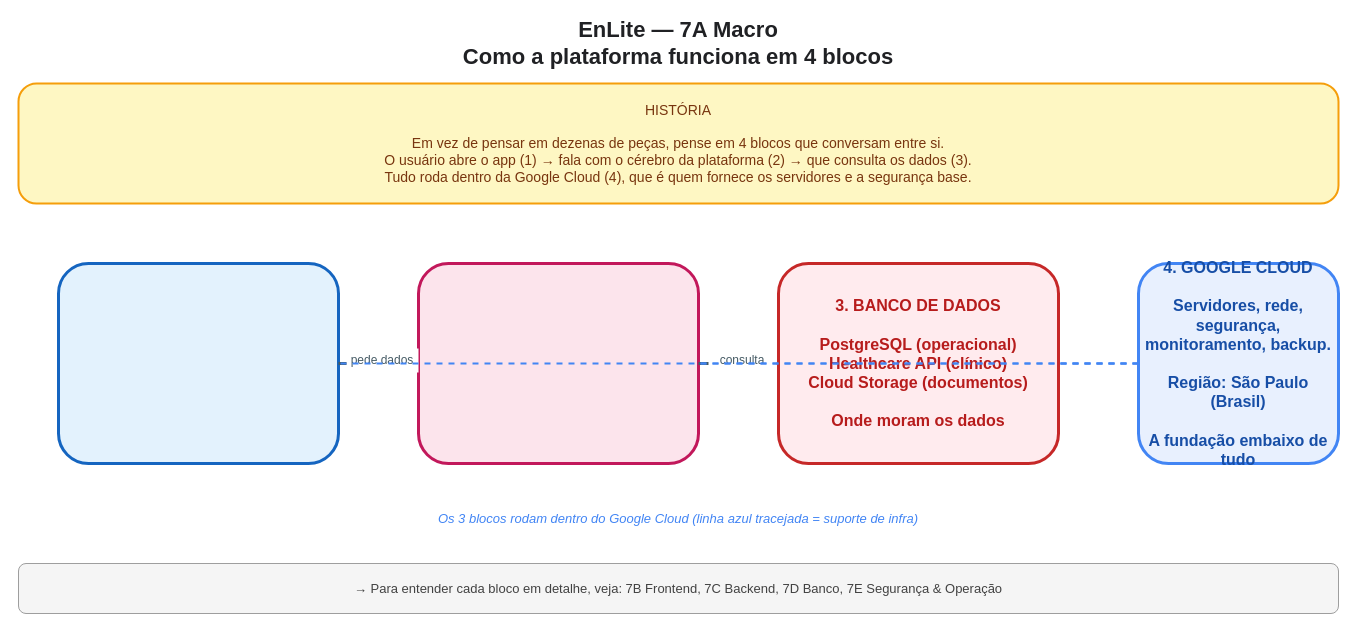
This 1357x631 diagram has some shape labels left out. The centre of each missing label's shape, as x and y in pixels:
1. FRONTEND React (web) React Native (mobile) O que o usuário vê e toca: the point at 198,363
2. BACKEND NestJS (TypeScript) 9 microsserviços O cérebro — regras de negócio: the point at 558,363
